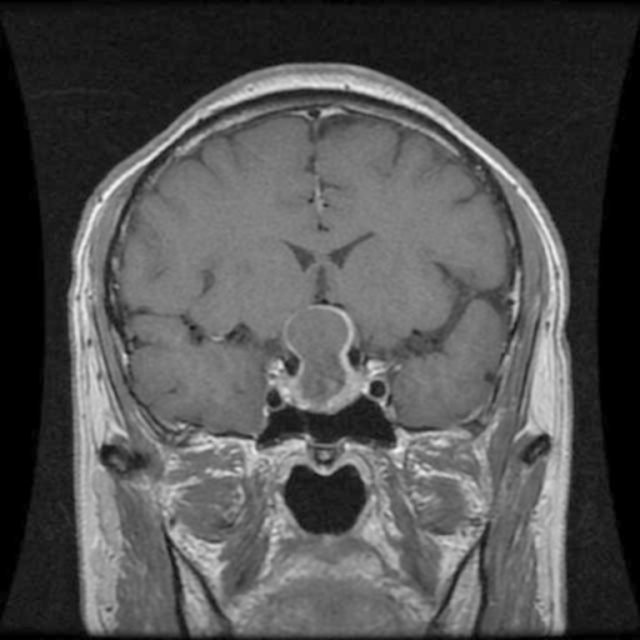no tumor: (287, 311, 358, 411)
